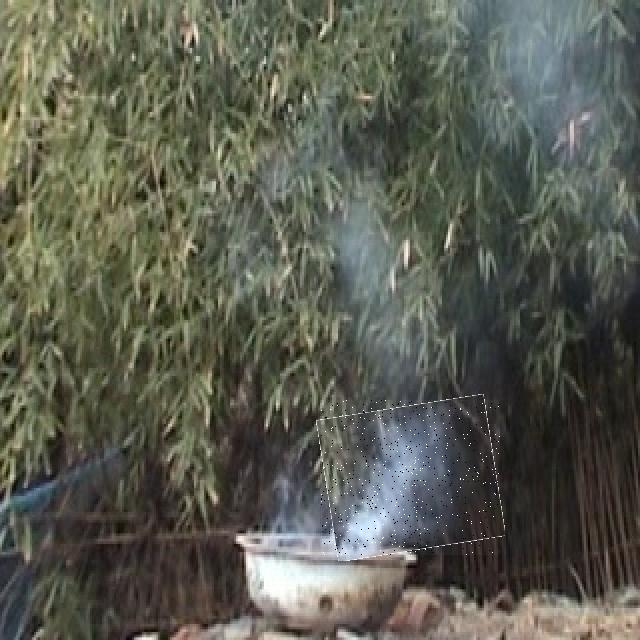smoke: (321, 400, 500, 555)
